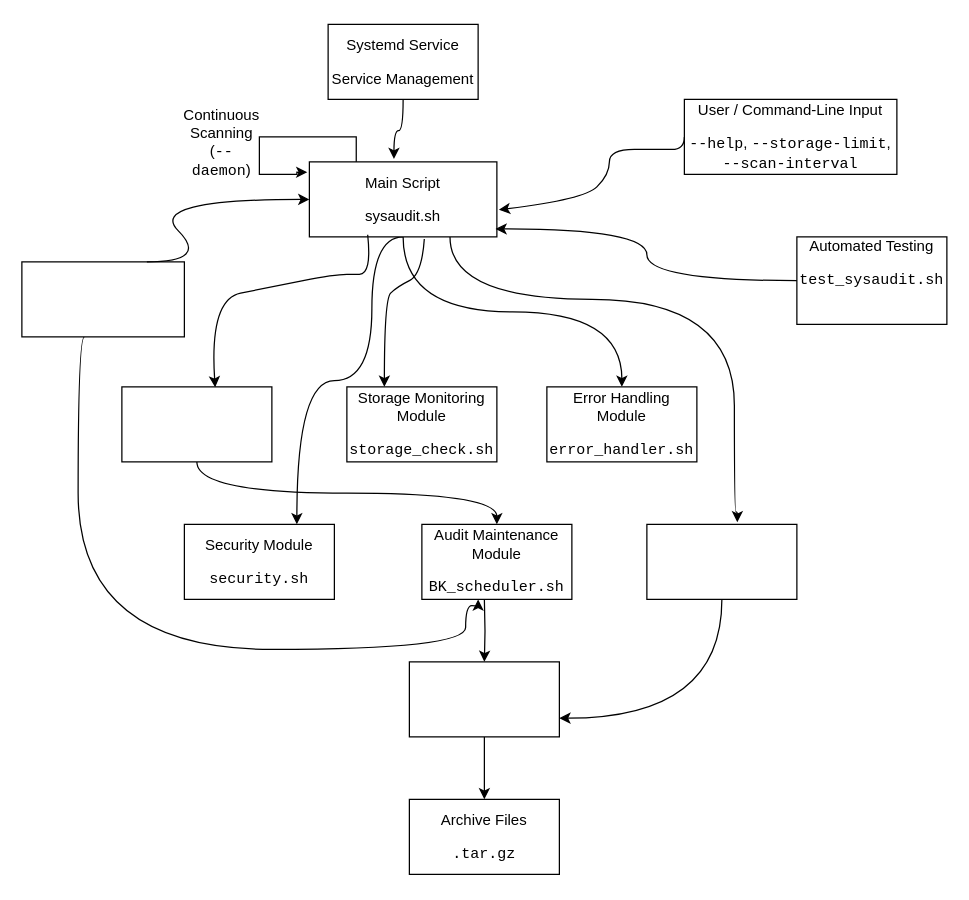
The diagram is 969 pixels wide and 900 high, and some of its shapes have lost their labels. Here are the shapes that lost their labels. From the top down, the centre of each, then its label:
At (102,299): "Configuration File sysaudit.cfg".
At (196,424): "Logging Module logging.sh".
At (721,561): "Audit Reports scan_*.audit".
At (483,699): "Maintenance Functions Bandhna.K.sh".
